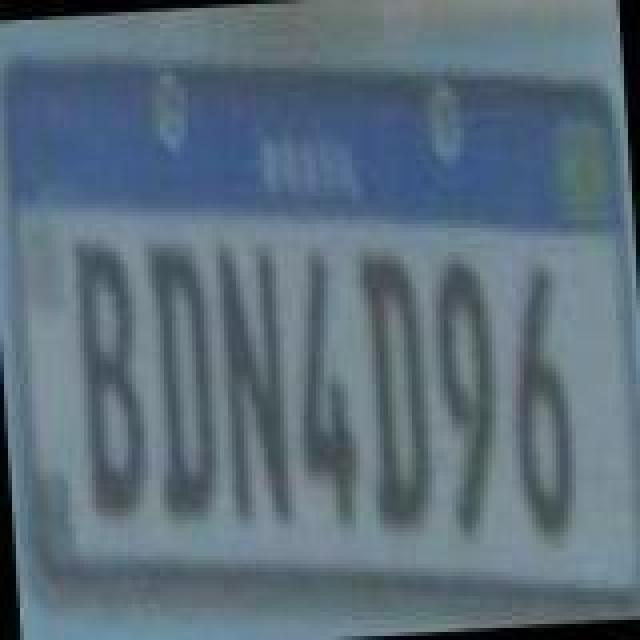4: (290, 250, 366, 534)
6: (506, 262, 582, 546)
9: (430, 258, 506, 542)
B: (70, 234, 154, 526)
D: (144, 236, 224, 524), (356, 250, 436, 534)
N: (214, 238, 298, 530)
